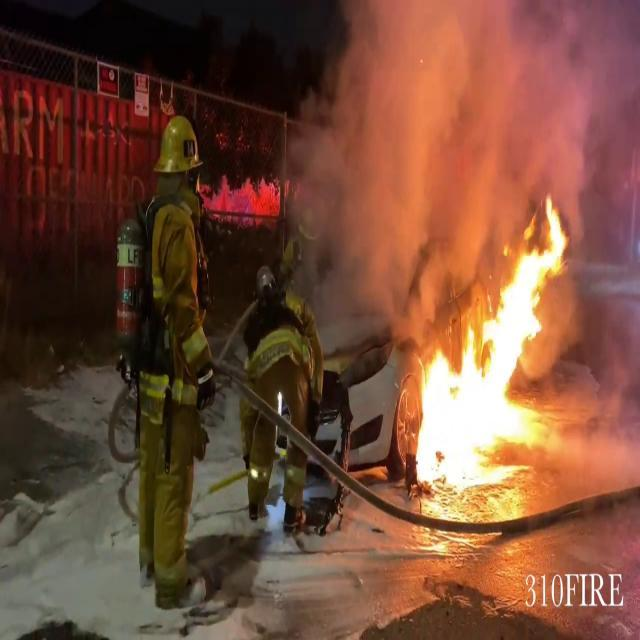Fire: (406, 192, 582, 492)
Smoke: (280, 0, 616, 292)
